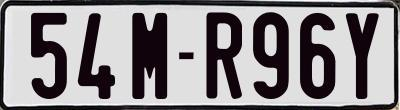4: (75, 11, 117, 102)
5: (31, 12, 70, 104)
6: (300, 12, 340, 103)
9: (250, 10, 291, 101)
M: (131, 13, 168, 102)
R: (203, 12, 240, 104)
Y: (344, 13, 381, 104)
